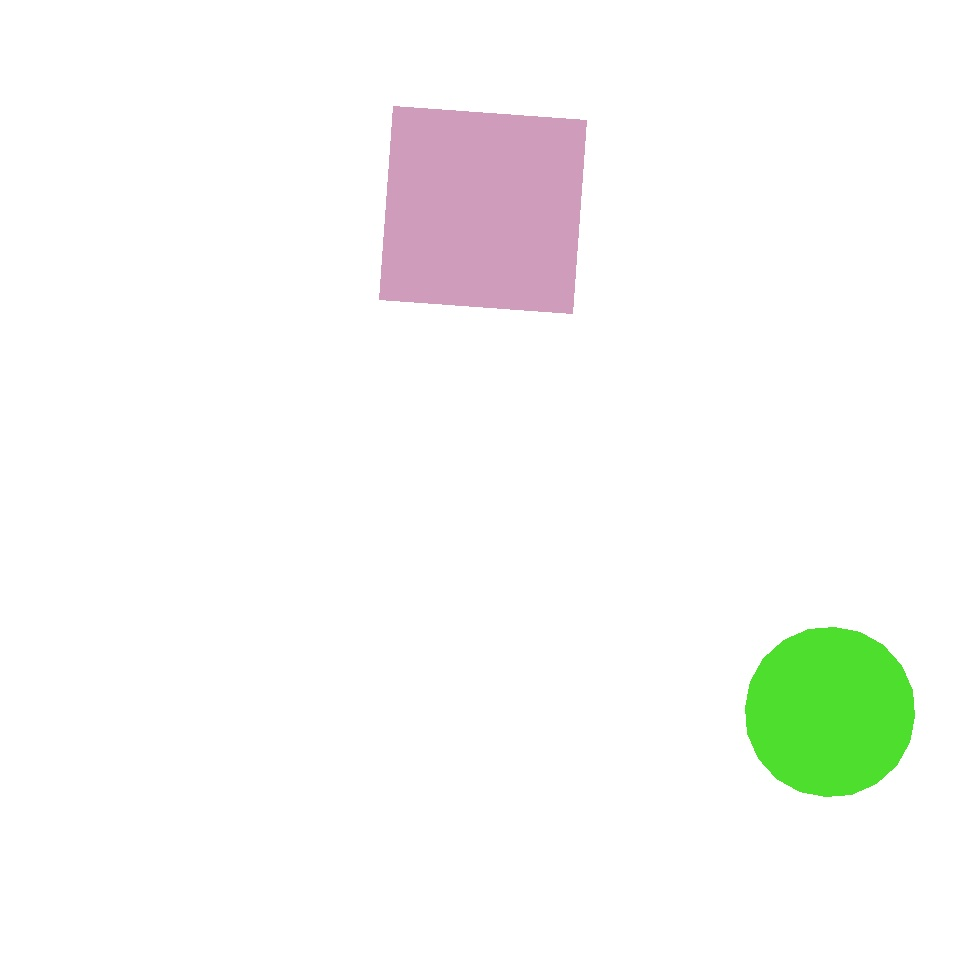square: (380, 106, 586, 314)
triangle: (189, 76, 425, 312), (746, 628, 914, 796), (23, 327, 125, 429)
